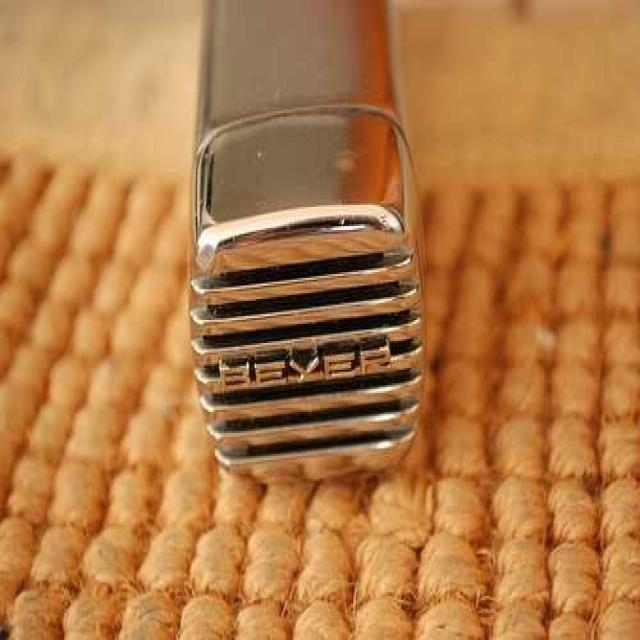microphone: (186, 4, 429, 480)
